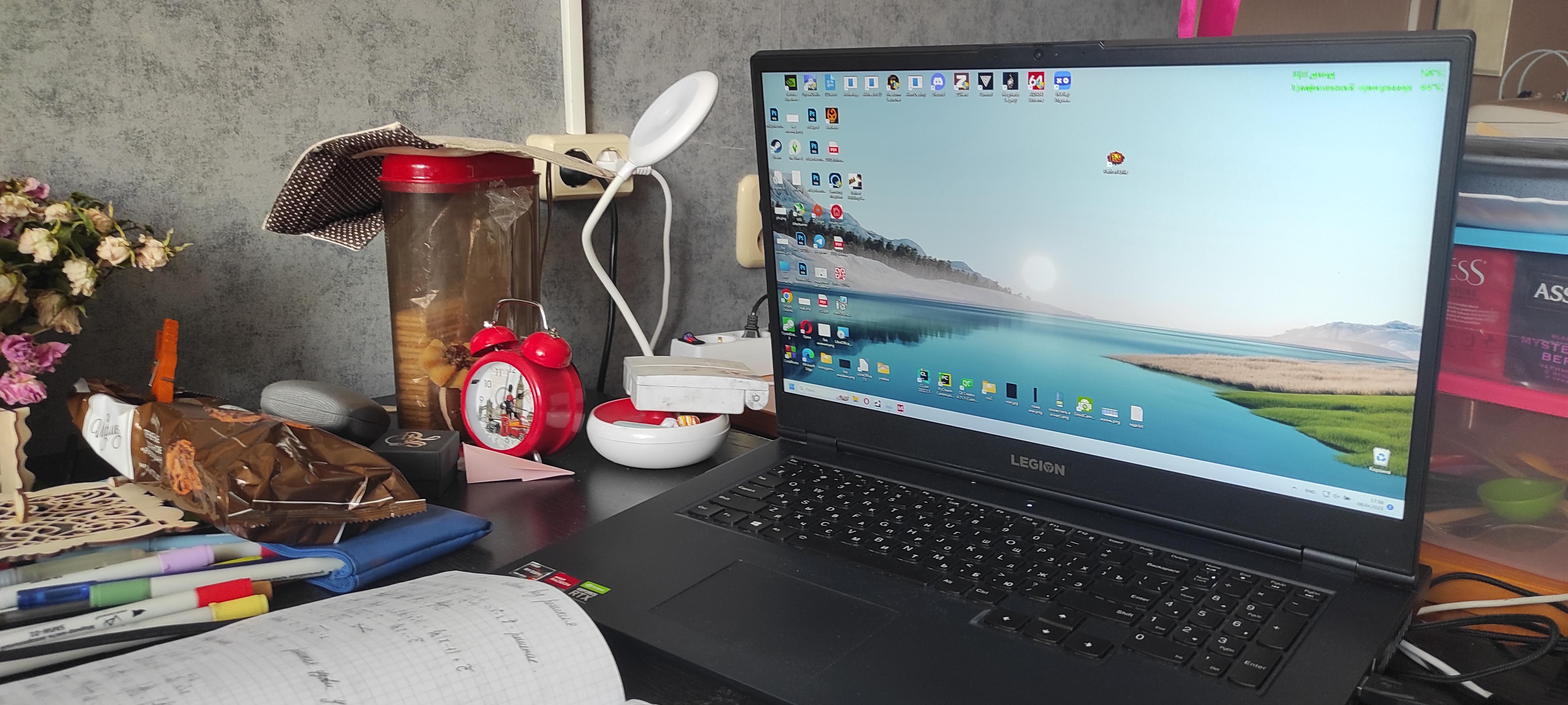monitor: (747, 29, 1480, 562)
